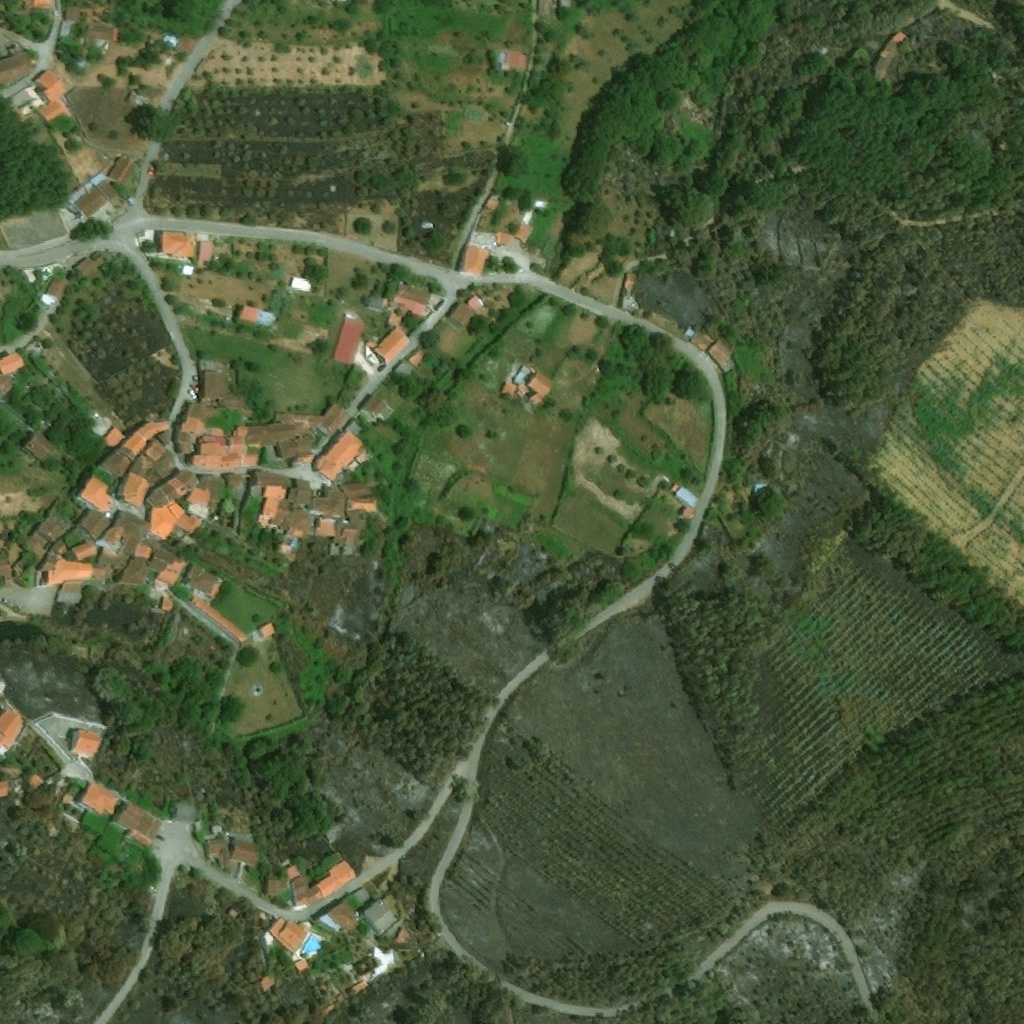0 no-damage: (313, 427, 368, 482), (192, 595, 247, 645), (279, 401, 352, 437), (115, 800, 164, 846), (144, 469, 199, 508), (191, 437, 247, 475), (37, 69, 71, 124), (198, 371, 244, 410), (366, 326, 411, 365), (333, 311, 366, 364), (69, 180, 112, 220), (268, 917, 313, 955), (318, 900, 363, 936), (316, 860, 358, 898), (80, 779, 123, 816), (513, 366, 553, 405), (182, 563, 224, 599), (152, 500, 188, 539), (238, 422, 296, 446), (47, 558, 96, 586), (81, 474, 116, 512), (393, 348, 430, 382), (25, 431, 62, 465), (0, 50, 34, 86), (448, 295, 485, 328), (114, 508, 151, 541), (365, 898, 399, 933), (37, 509, 73, 542), (7, 83, 45, 114), (60, 197, 89, 235), (707, 340, 739, 374), (392, 284, 432, 311), (153, 546, 190, 575), (315, 487, 348, 519), (0, 708, 25, 750), (874, 40, 900, 80), (157, 231, 195, 258), (293, 876, 326, 907), (123, 472, 151, 508), (360, 393, 396, 420), (149, 557, 181, 587), (102, 449, 135, 478), (79, 510, 111, 539), (279, 438, 315, 463), (258, 498, 286, 530), (207, 835, 233, 869), (121, 556, 149, 587), (110, 155, 138, 185), (238, 304, 278, 325), (122, 430, 150, 460), (324, 817, 354, 845), (621, 274, 643, 312), (289, 479, 314, 512), (252, 468, 293, 488), (92, 172, 120, 201), (147, 453, 177, 480), (73, 256, 106, 279), (70, 731, 101, 755), (233, 841, 264, 865), (42, 277, 68, 305), (139, 419, 171, 441), (460, 247, 486, 274), (99, 547, 127, 571), (670, 484, 697, 508), (279, 509, 315, 527), (341, 480, 375, 499), (103, 521, 128, 546), (201, 474, 226, 499), (685, 327, 711, 351), (178, 513, 205, 536), (0, 353, 26, 376), (72, 540, 99, 562), (195, 819, 224, 839), (87, 23, 119, 41), (103, 427, 127, 451), (62, 800, 86, 824), (37, 548, 62, 571), (131, 454, 151, 482), (145, 439, 169, 462), (174, 526, 199, 548), (173, 800, 198, 822), (174, 430, 196, 453), (366, 343, 388, 365), (185, 401, 209, 421), (182, 417, 208, 435), (188, 488, 214, 506), (351, 496, 377, 513), (177, 34, 198, 55), (198, 242, 214, 269), (469, 230, 494, 247), (499, 383, 529, 397), (346, 509, 366, 530), (0, 373, 18, 396), (315, 519, 338, 537), (330, 539, 354, 556), (514, 222, 534, 242), (351, 888, 373, 906), (133, 542, 154, 560), (257, 621, 276, 640), (265, 486, 289, 501), (230, 436, 248, 455), (129, 93, 151, 107), (368, 294, 386, 311), (40, 265, 57, 283), (136, 231, 154, 248), (284, 865, 302, 881), (551, 219, 566, 238), (279, 536, 293, 556), (292, 277, 313, 290), (484, 195, 501, 211), (213, 512, 231, 527), (266, 876, 279, 896), (164, 32, 181, 47), (352, 980, 369, 995), (344, 528, 362, 542), (504, 54, 529, 64), (190, 504, 209, 517), (68, 4, 83, 20), (31, 773, 47, 788), (53, 540, 68, 555), (891, 31, 907, 45), (244, 455, 260, 469), (294, 958, 310, 972), (522, 208, 536, 224), (61, 21, 74, 38), (0, 559, 12, 577), (0, 779, 12, 797), (76, 55, 90, 70), (62, 582, 81, 593), (397, 927, 410, 943), (153, 580, 170, 592), (261, 975, 275, 989), (335, 526, 349, 540), (496, 233, 511, 246), (205, 427, 224, 436), (228, 474, 247, 483), (32, 340, 45, 353), (252, 486, 265, 498), (290, 527, 307, 536), (345, 964, 357, 976), (533, 201, 550, 209), (161, 598, 172, 610), (681, 508, 694, 518), (0, 680, 7, 697), (234, 510, 241, 527), (183, 265, 193, 276), (326, 1004, 337, 1014), (240, 518, 248, 531), (389, 315, 403, 322), (267, 933, 274, 945), (330, 299, 339, 306), (375, 947, 380, 956), (41, 421, 47, 427)
3 destroyed: (357, 955, 381, 975)
4 un-classified: (747, 481, 777, 514), (538, 0, 553, 17), (32, 0, 57, 9), (25, 268, 37, 283), (563, 0, 574, 6), (281, 563, 288, 571), (408, 851, 415, 858)
